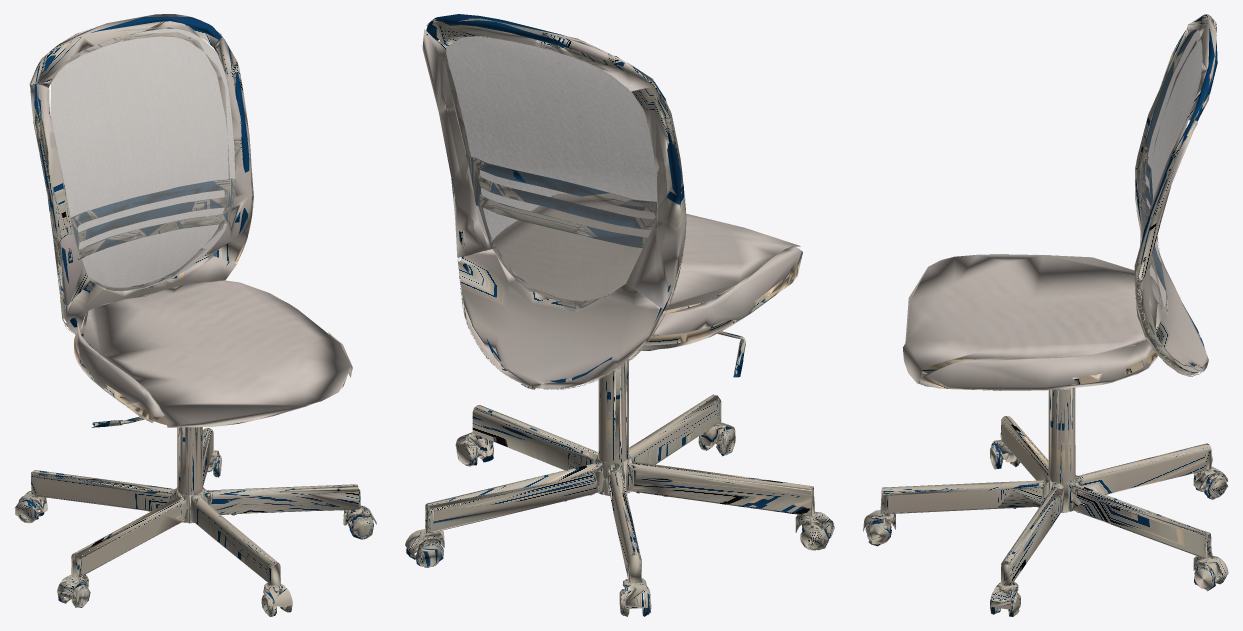
Rendered from BR-CHAIR-B.glb.
3 renders of one model, left to right at view 1: azimuth 30°, elevation 25°; view 2: azimuth 150°, elevation 25°; view 3: azimuth 270°, elevation 25°, orthographic. The views are drawn at different scales.
Visible parts, largest first — view 1: 70492202-FLINTAN001; view 2: 70492202-FLINTAN001; view 3: 70492202-FLINTAN001.
Boxes of the visible parts, box(x1,y1,x2,y2) form: 70492202-FLINTAN001: box(14, 14, 376, 616); 70492202-FLINTAN001: box(405, 14, 834, 616); 70492202-FLINTAN001: box(863, 14, 1228, 616).
Size of the model in its own units: 0.7089 by 1.02 by 0.675.
2 materials, 2 textured.
